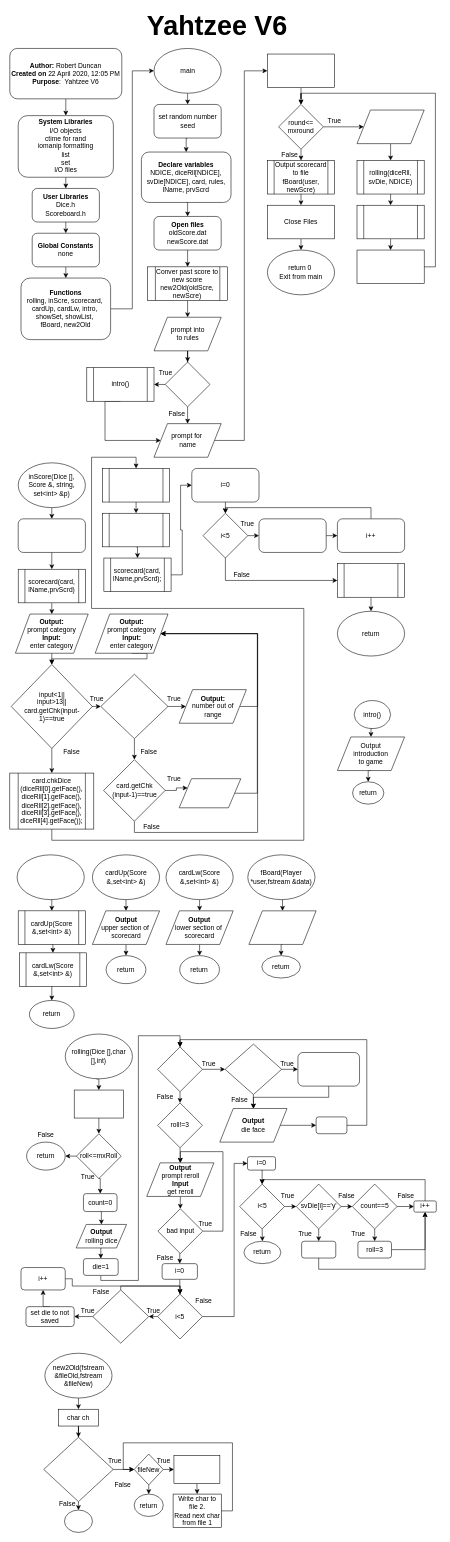
Image size: 450x1542. Some labels were removed from this diagram. The shapes that lost their labels are listed below. From the top down, each one's box as (x1, y1, x2, y2) in pixels, then its label:
(267, 53, 335, 88): round=1,mxround=13
(356, 109, 424, 144): Output: name, round number
(356, 205, 424, 239): inScre(diceRll, card,lName, prvScrd)
(356, 249, 424, 284): round++
(165, 361, 210, 407): rules=="yes"
(102, 468, 170, 502): card.inPoints( input)
(18, 518, 85, 552): input=0
(102, 513, 170, 547): prvScrd.insert( input);
(258, 518, 326, 552): diceRll[i].setFace(0);
(337, 563, 405, 597): card.resetDice();
(100, 674, 168, 739): input<1|| input>13
(179, 778, 241, 808): Output: cat already chosen
(17, 854, 84, 900): scorecard(Score &, string, set<int> &)
(248, 910, 316, 944): Output the entire scorecard to file
(157, 1046, 202, 1092): die<=max
(225, 1044, 282, 1095): diceRll[die-1]. getFace()==0
(297, 1052, 360, 1086): diceRll[die-1].roll();
(74, 1089, 123, 1118): roll=1,mxRoll=3
(316, 1116, 347, 1134): die++
(301, 1241, 336, 1258): count++
(92, 1289, 149, 1343): svDie[i]!='y' && roll!=3
(43, 1437, 113, 1502): fileNew.is_open()
(173, 1455, 220, 1483): Read a char from file 1
(64, 1509, 92, 1532): return 0
